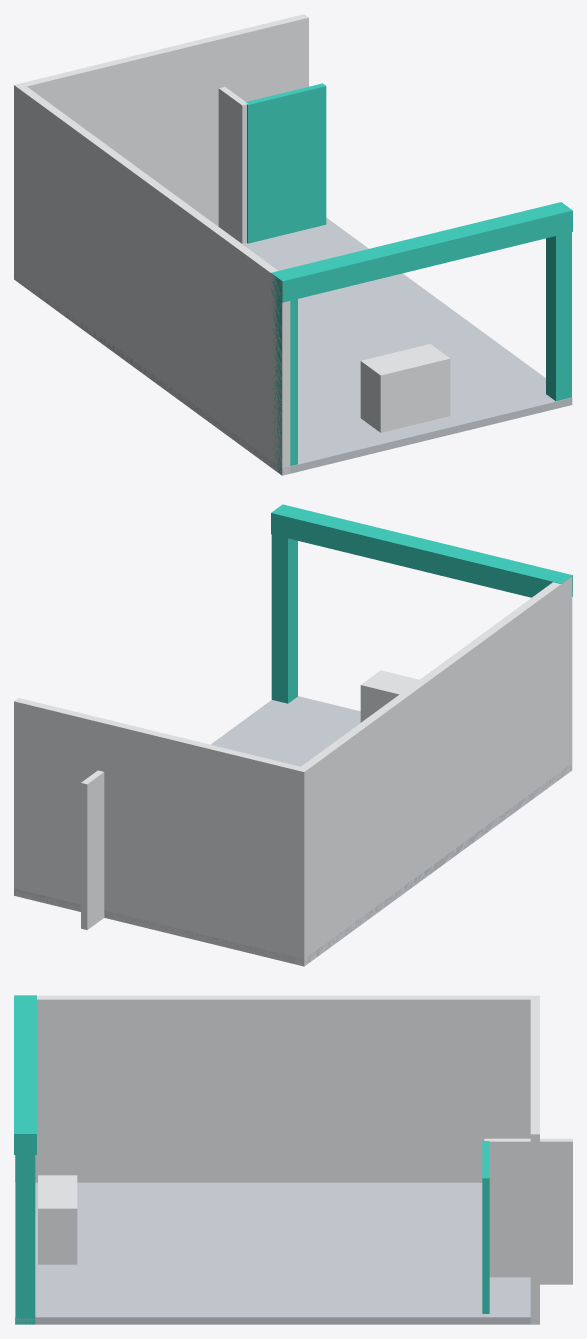
3 renders of one model, top to bottom at view 1: azimuth 30°, elevation 25°; view 2: azimuth 150°, elevation 25°; view 3: azimuth 270°, elevation 25°, orthographic. The views are drawn at different scales.
Visible parts, largest first — view 1: Exhibition Booth Concept; view 2: Exhibition Booth Concept; view 3: Exhibition Booth Concept.
Boxes of the visible parts, left/top/right/bottom form: Exhibition Booth Concept: left=14, top=14, right=572, bottom=475; Exhibition Booth Concept: left=14, top=504, right=572, bottom=966; Exhibition Booth Concept: left=14, top=995, right=572, bottom=1324.
Bounding box in the file's own units: 5 × 3.2 × 8.52.
